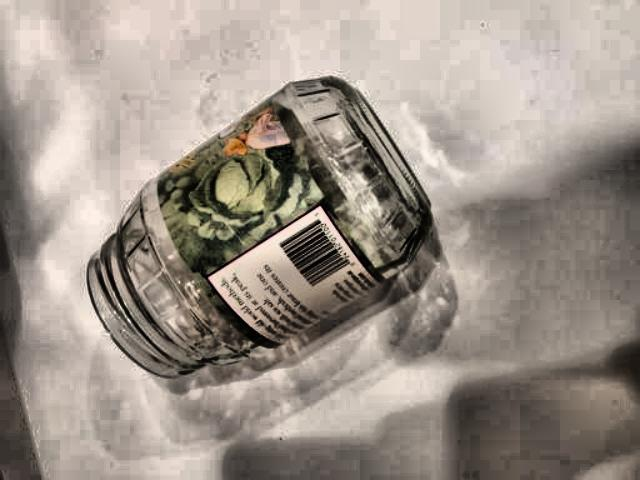Almennt: (62, 66, 467, 398)
